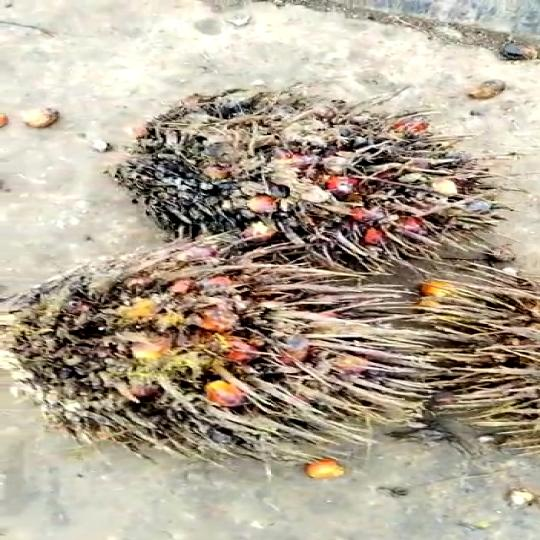terlalu masak: (0, 253, 437, 468), (113, 79, 508, 268)
